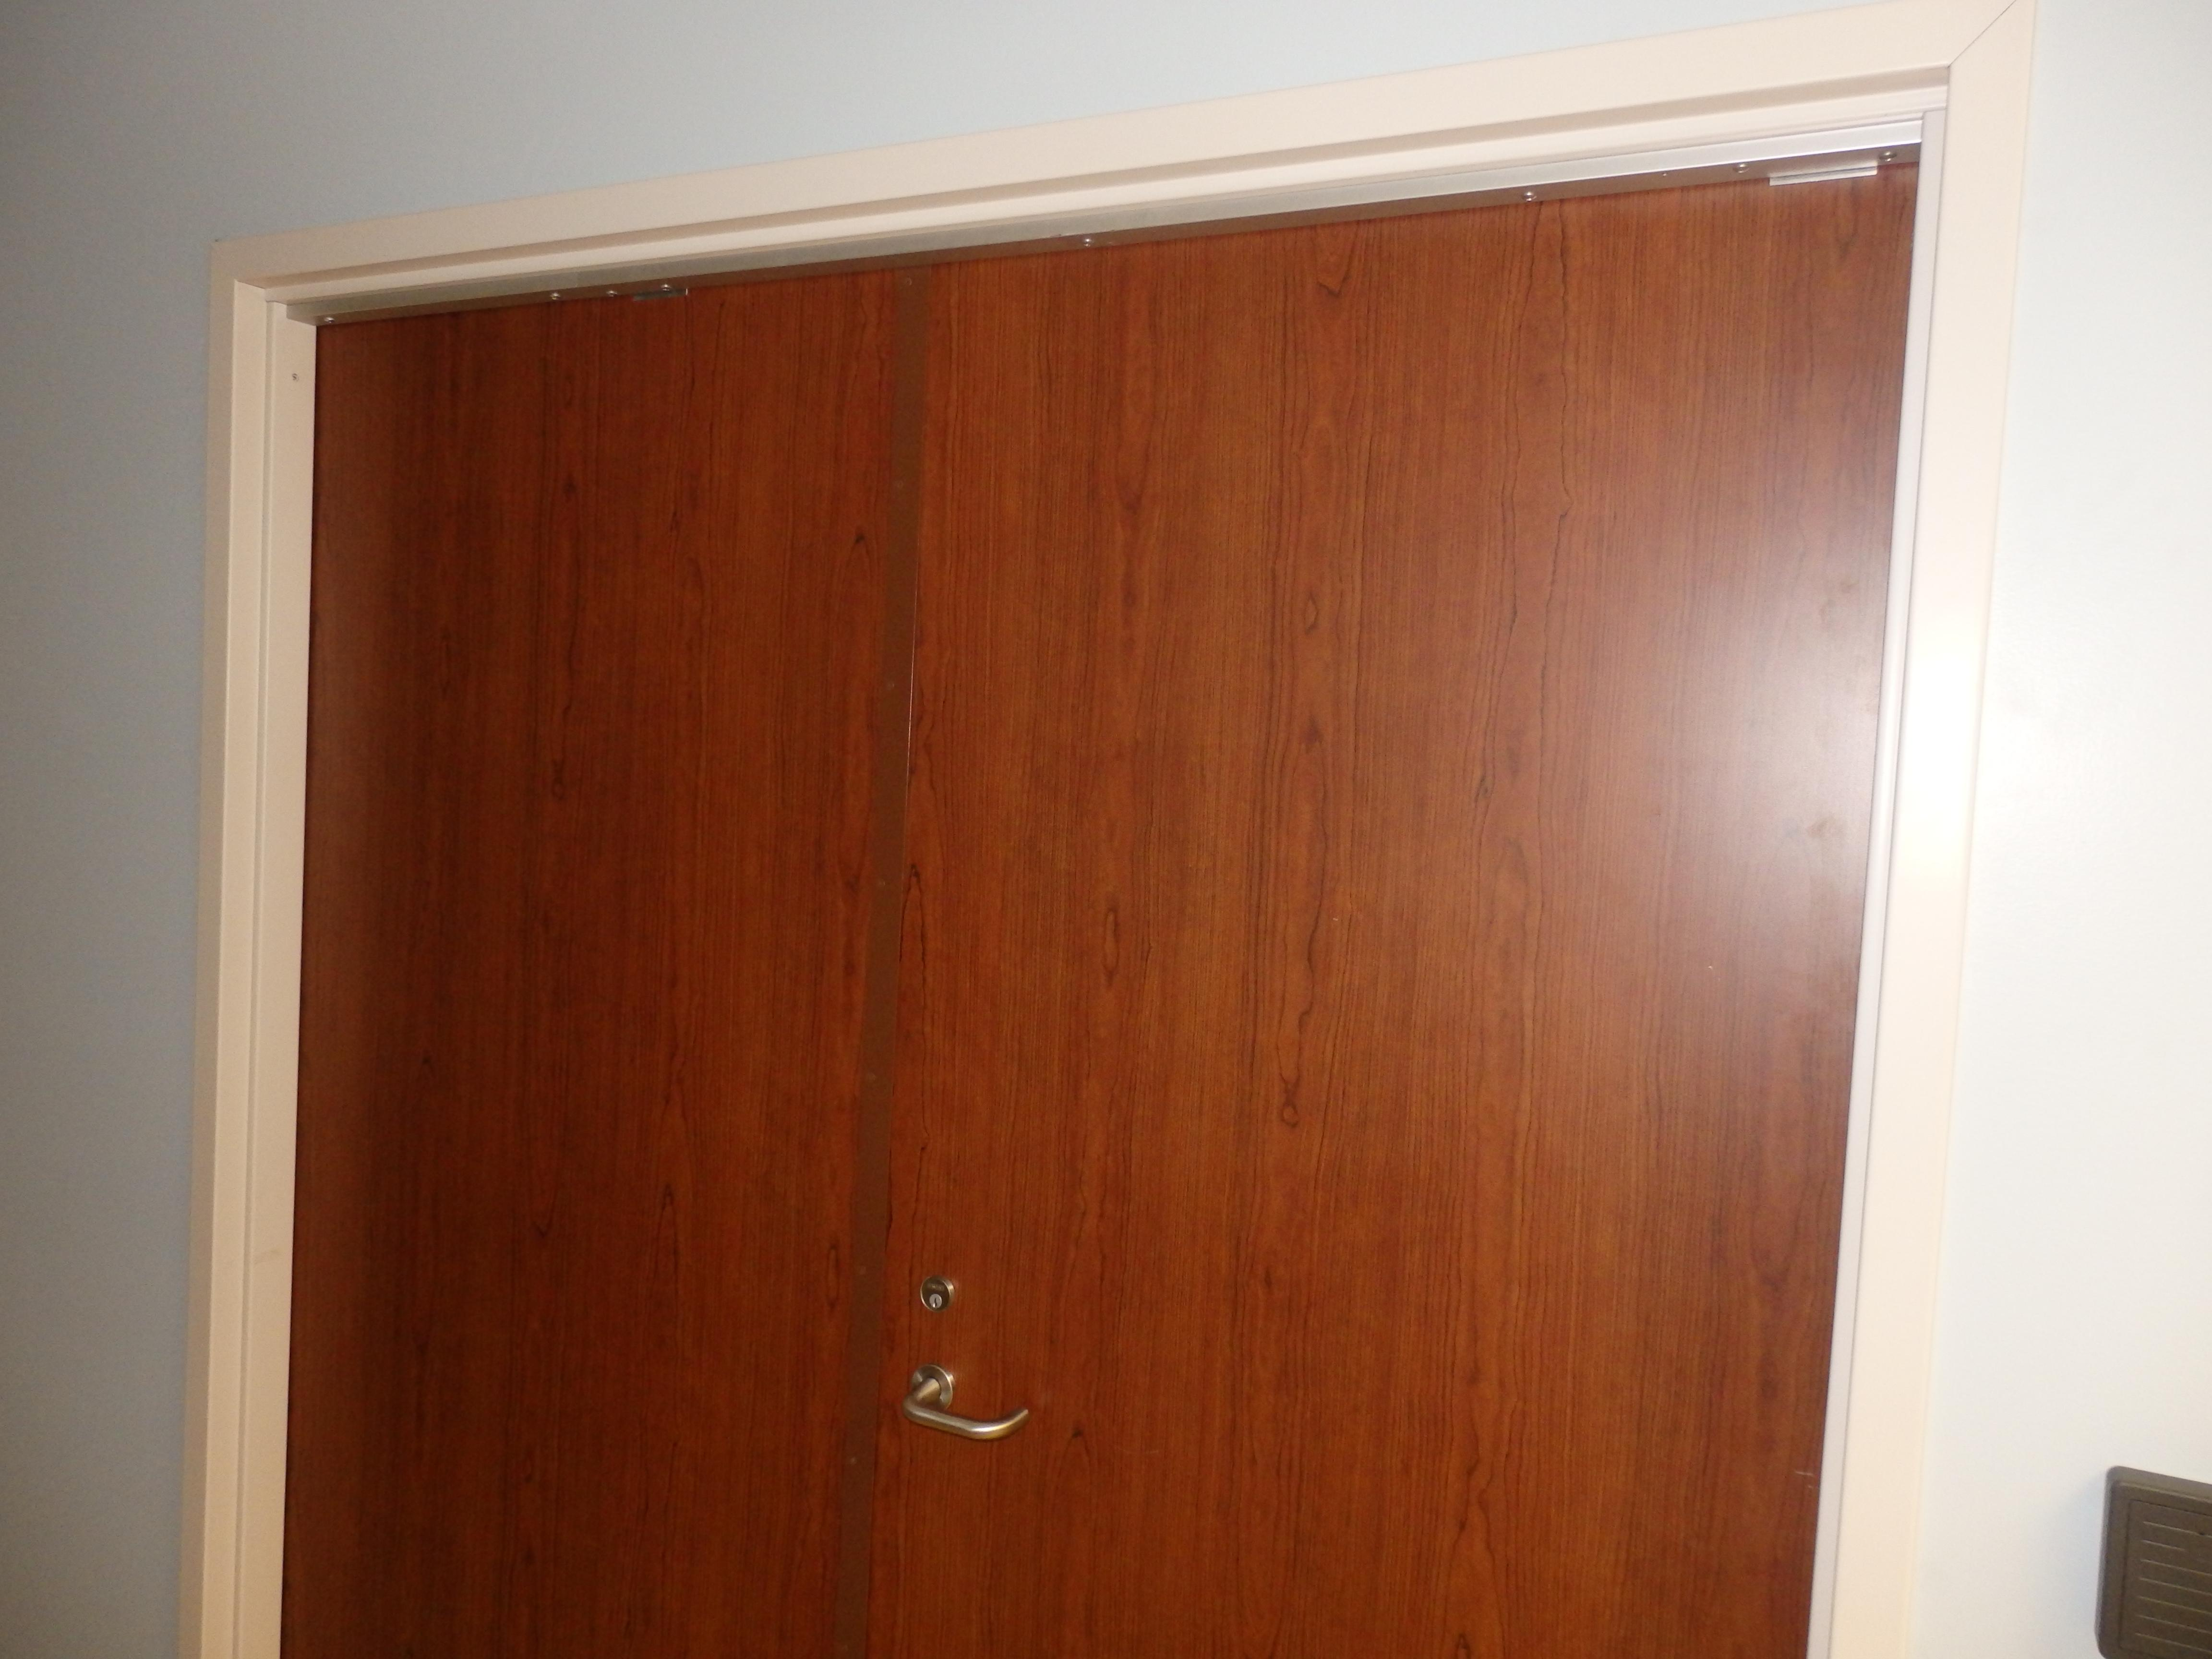door: (171, 3, 2040, 1654)
